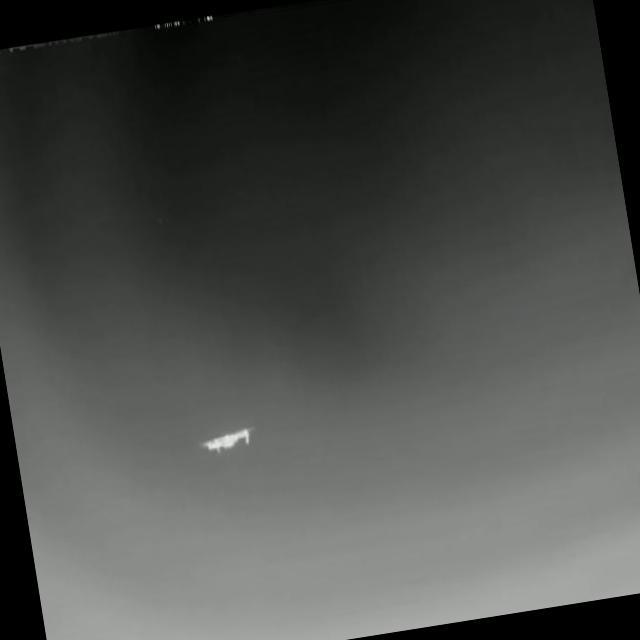DRONE: (192, 415, 264, 463)
